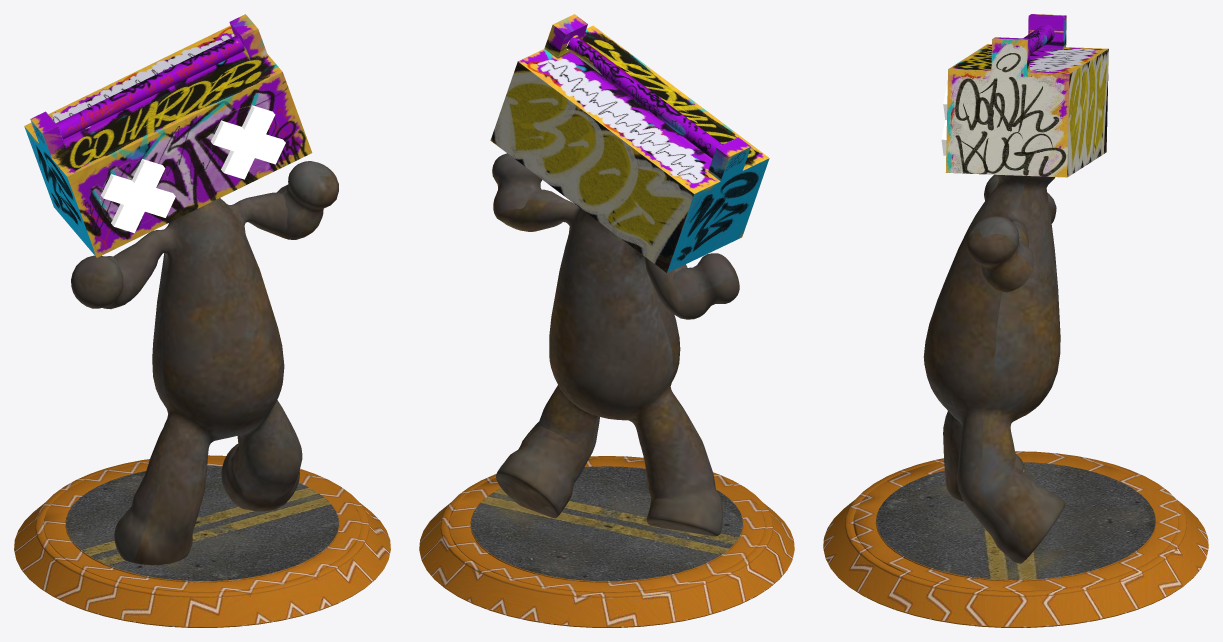
The picture shows the model from 3 angles, left to right: view 1: azimuth 30°, elevation 25°; view 2: azimuth 150°, elevation 25°; view 3: azimuth 270°, elevation 25°; orthographic projection. The views are drawn at different scales.
Size of the model in its own units: 1.45 by 2.2 by 1.45.
Materials: 5 (4 with a texture image).
